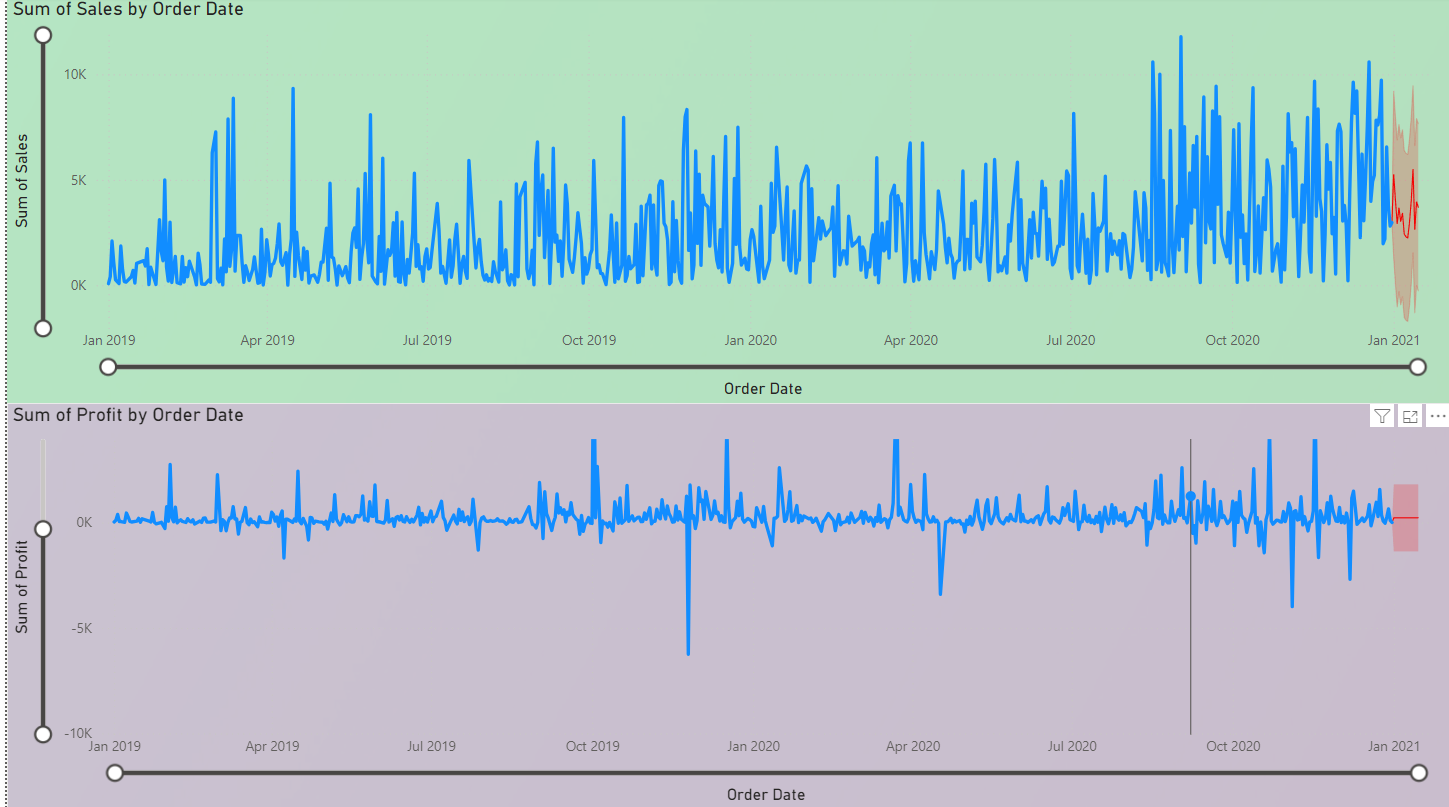

Layout of this report page (visuals, bound fields, positions):
{"tool":"powerbi","page":{"name":"Forecasting","canvas":[1280,720],"ordinal":1},"visuals":[{"type":"lineChart","fields":{"Y":["Sum(updated_sales.Sales)"],"Category":["updated_sales.Order Date"]},"box":[0,0,1280.4,360],"z":0},{"type":"lineChart","fields":{"Y":["Sum(updated_sales.Profit)"],"Category":["updated_sales.Order Date"]},"box":[0,360,1280.4,360],"z":1000}]}

Visuals, with their boxes in screenshot pixels (x1, y1, x2, y2), scaled from the page's 1280x720 canvas onto the 1449x807 screenshot:
lineChart - Sum(updated_sales.Sales) x updated_sales.Order Date: box=[0, 0, 1448, 404]
lineChart - Sum(updated_sales.Profit) x updated_sales.Order Date: box=[0, 404, 1448, 806]
